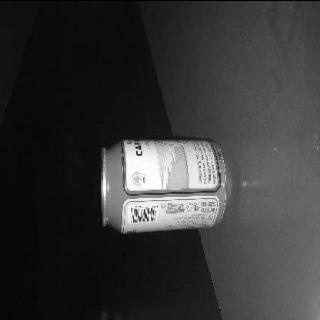alumunium_can: (100, 136, 229, 236)
